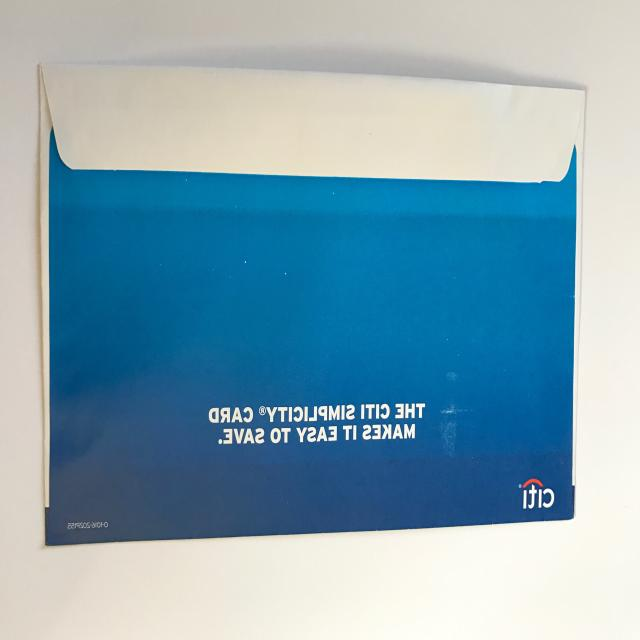paper: (1, 42, 605, 563)
